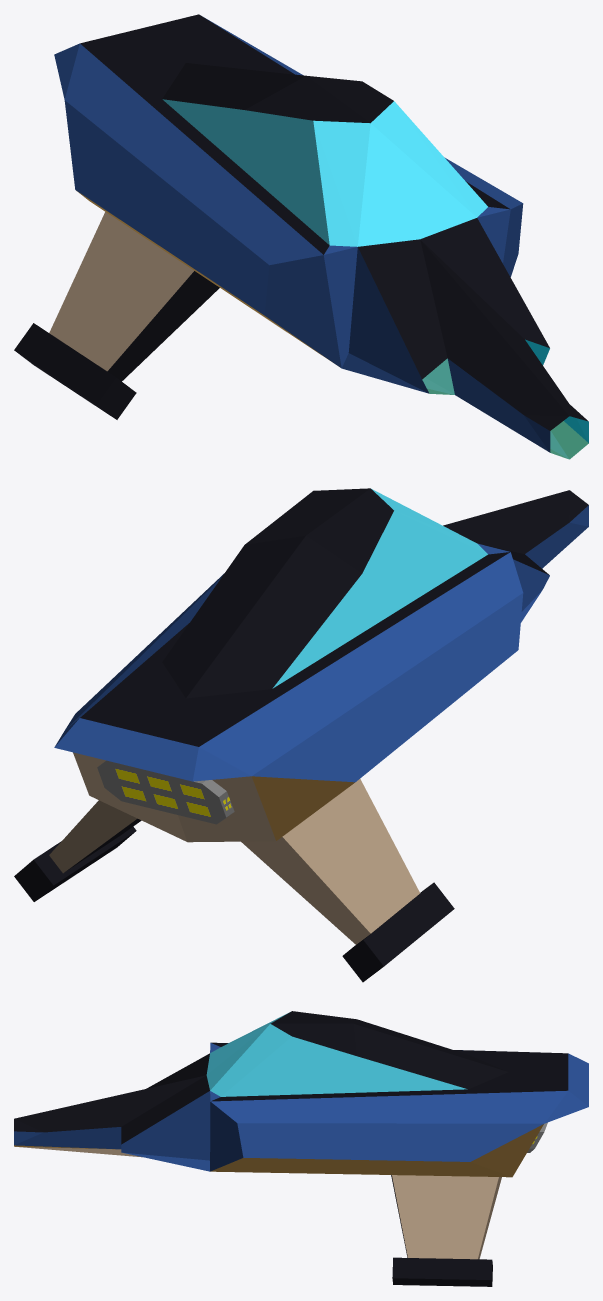
File: Marlin.FBX
3 renders of one model, top to bottom at view 1: azimuth 30°, elevation 25°; view 2: azimuth 150°, elevation 25°; view 3: azimuth 270°, elevation 25°, orthographic. The views are drawn at different scales.
Parts seen in each view (by area): view 1: below; view 2: below, back; view 3: below.
Boxes of the visible parts, x1,y1,x2,y2 form: below: (14, 14, 588, 459); below: (14, 488, 588, 982); back: (97, 760, 234, 824); below: (14, 1011, 588, 1286).
Size of the model in its own units: 13.37 by 11.32 by 27.91.
Materials: 7 (1 with a texture image).
